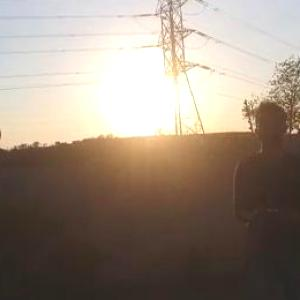follow: (220, 99, 300, 299)
